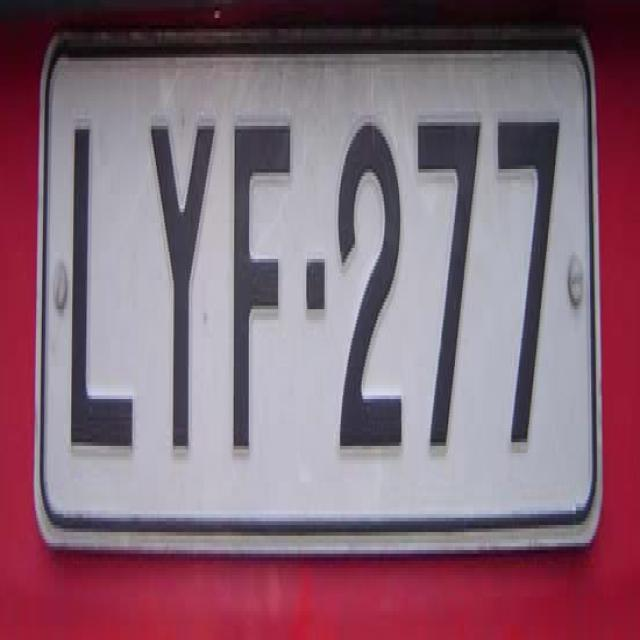Autre: (41, 42, 601, 539)
